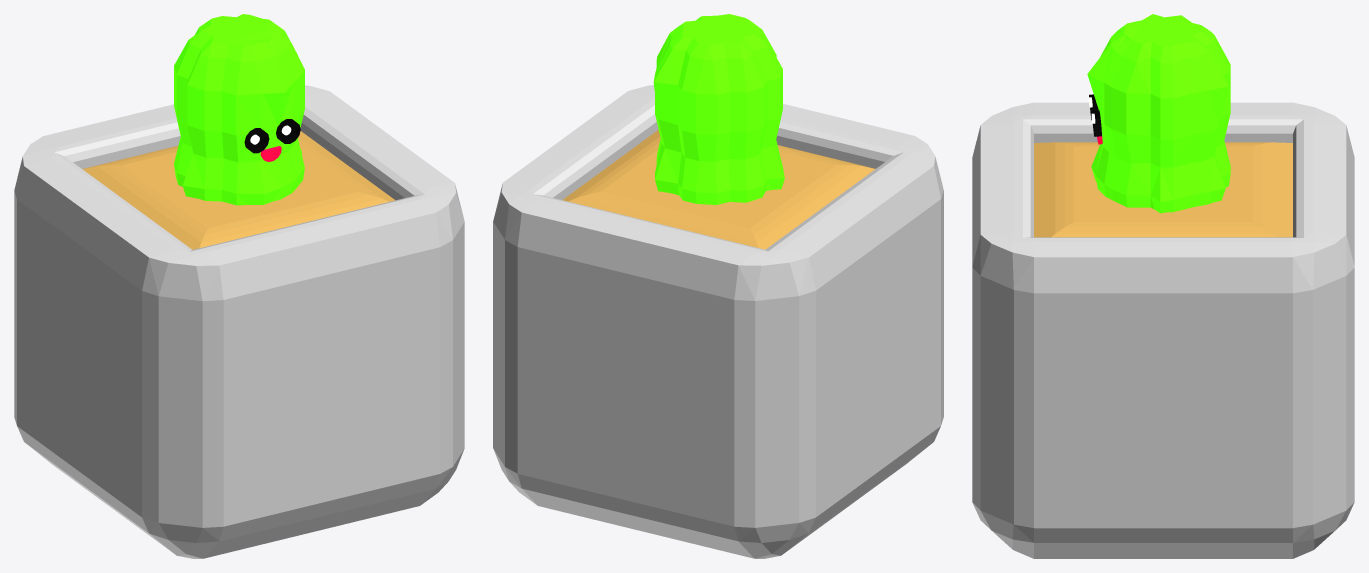
Rendered from STR_3D_cactus_1.dae.
The picture shows the model from 3 angles, left to right: view 1: azimuth 30°, elevation 25°; view 2: azimuth 150°, elevation 25°; view 3: azimuth 270°, elevation 25°; orthographic projection. The views are drawn at different scales.
Parts seen in each view (by area): view 1: pot.002, Cylinder, soil.002, Cylinder.004; view 2: pot.002, Cylinder, soil.002; view 3: pot.002, Cylinder, soil.002.
Boxes of the visible parts, bbox=[...] form: pot.002: bbox=[14, 85, 464, 558]; Cylinder: bbox=[174, 14, 304, 205]; soil.002: bbox=[82, 131, 394, 249]; Cylinder.004: bbox=[244, 119, 300, 161]; pot.002: bbox=[493, 85, 943, 558]; Cylinder: bbox=[653, 14, 784, 204]; soil.002: bbox=[562, 130, 875, 249]; pot.002: bbox=[972, 102, 1354, 558]; Cylinder: bbox=[1087, 14, 1230, 213]; soil.002: bbox=[1034, 142, 1292, 237].
Bounding box in the file's own units: 2 × 2 × 2.73.
